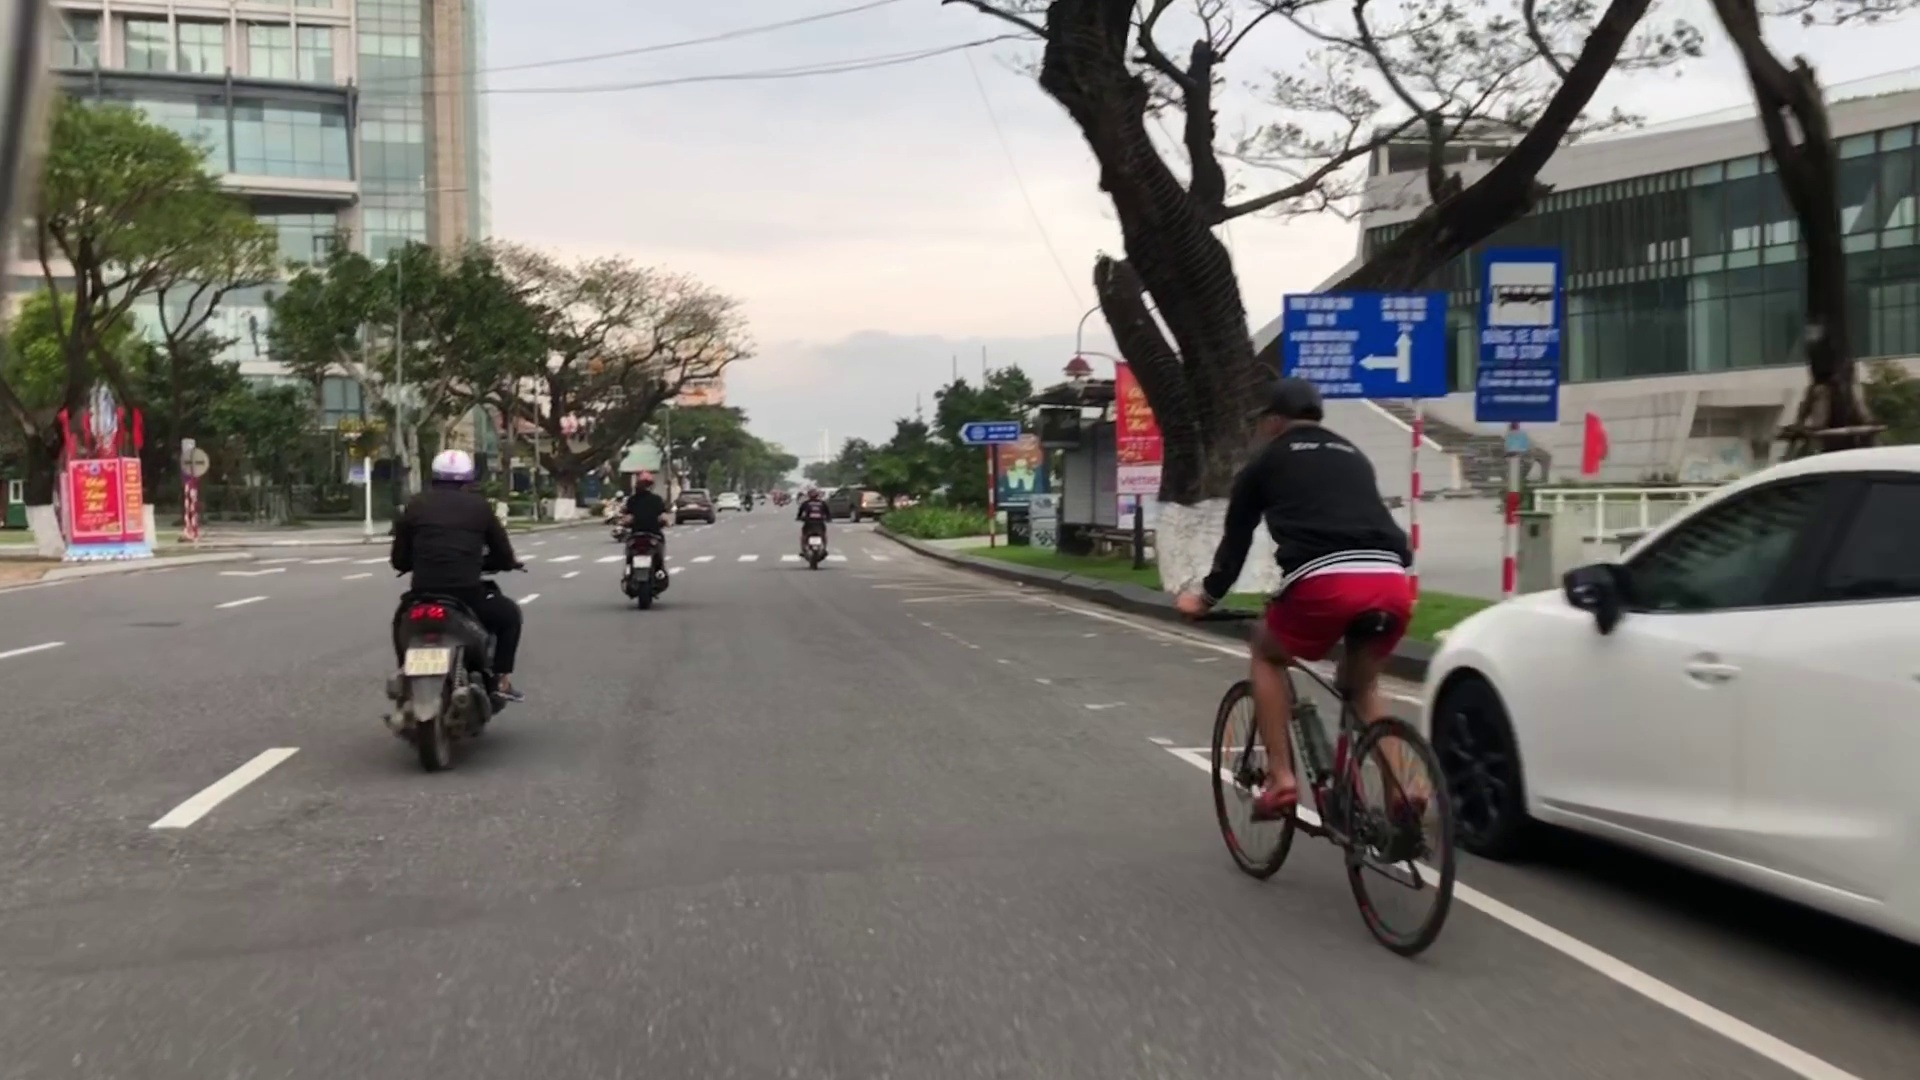Bien khac: (1278, 291, 1445, 401), (1478, 255, 1557, 419)
